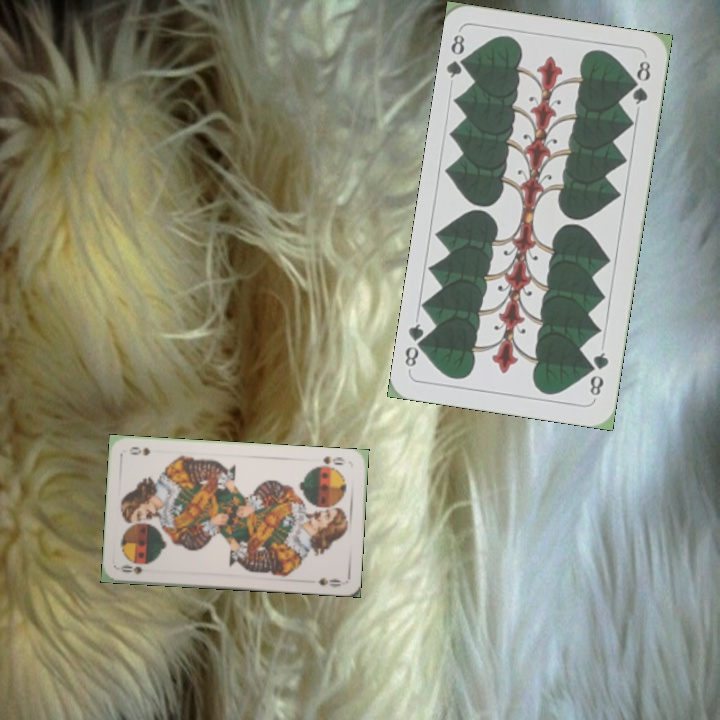G8: (443, 30, 473, 81), (585, 348, 612, 399)
SO: (311, 452, 349, 470), (117, 561, 145, 577)
